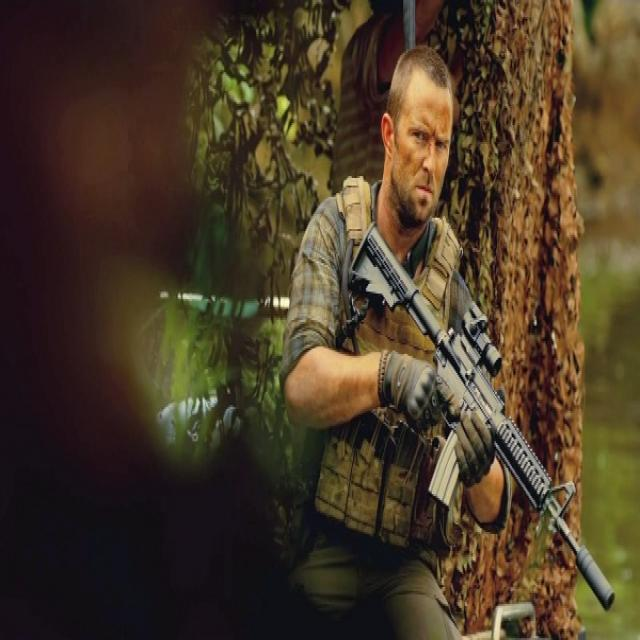rifle: (351, 223, 623, 618)
